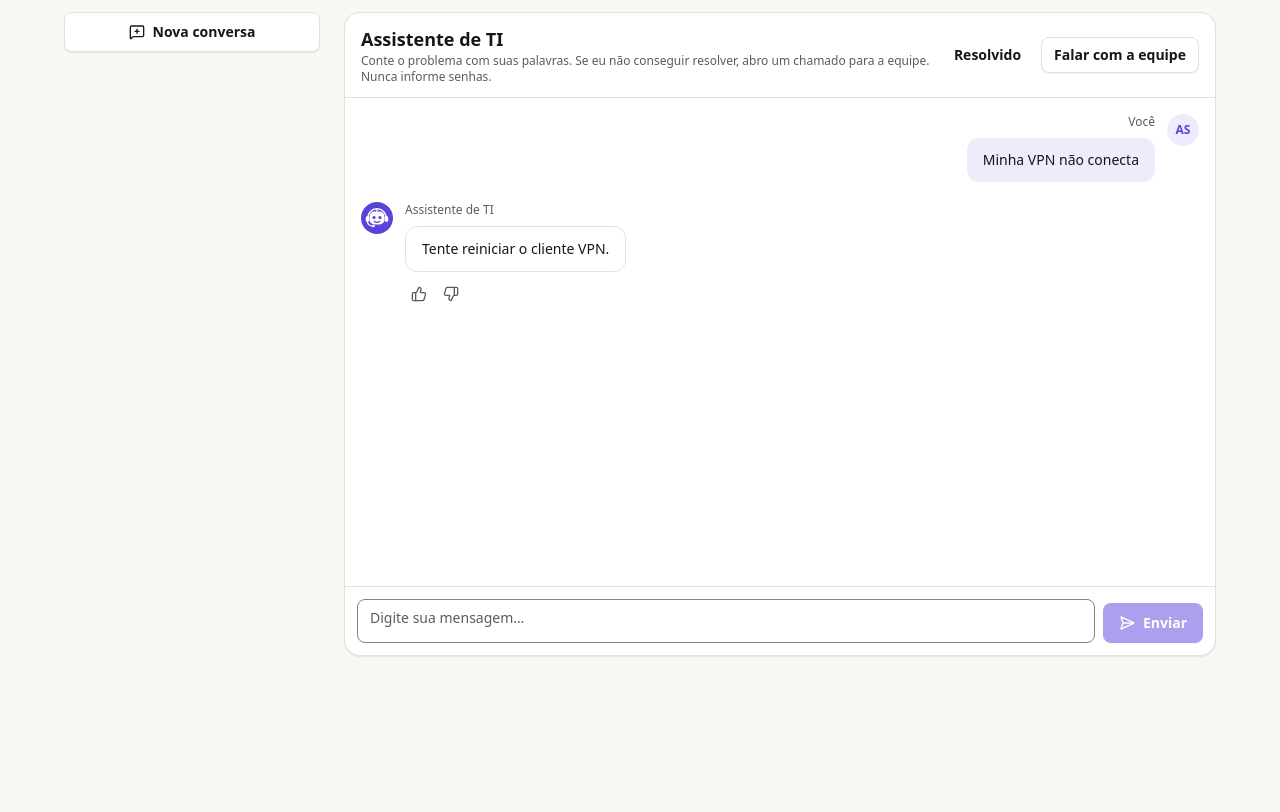
Test: ChatPage › avalia a resposta do assistente
This screenshot has width=1280, height=812.
Click the button named "Resposta não ajudou" at coordinates (451, 294), box [437, 280, 465, 308]
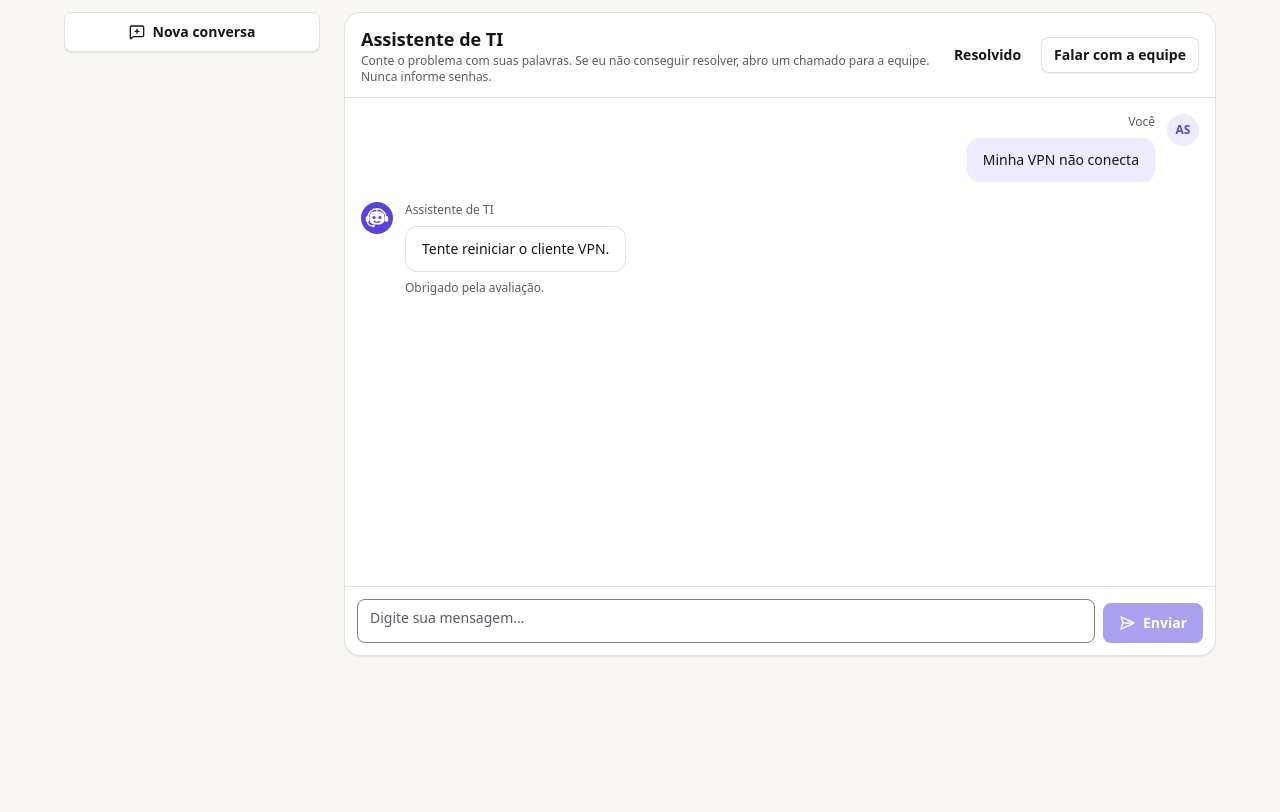
Expected: the text "Obrigado pela avaliação." is shown, [405, 279, 544, 296]
